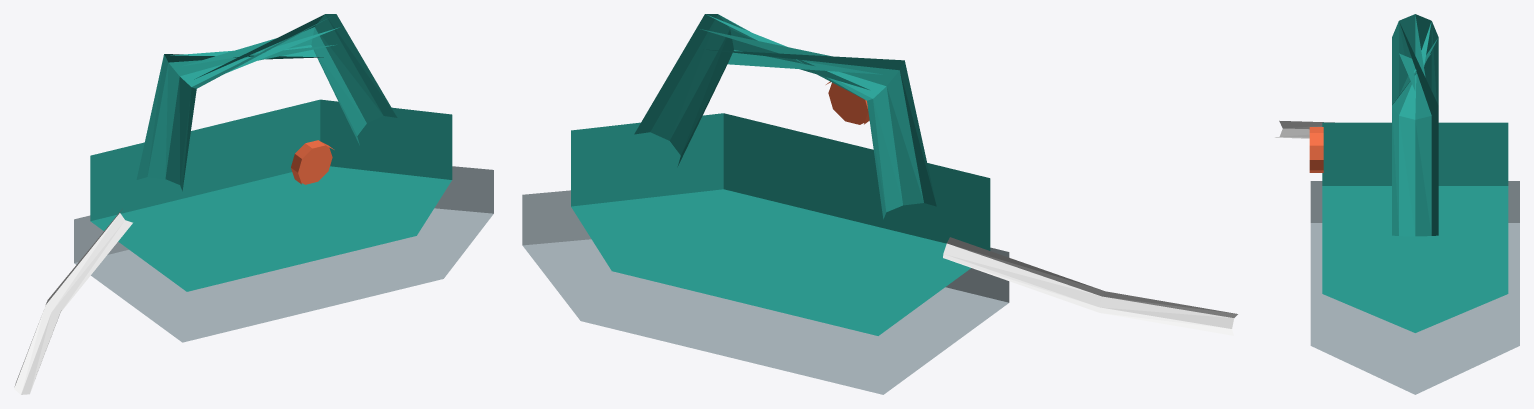
Rendered from strykjarn.glb.
3 renders of one model, left to right at view 1: azimuth 30°, elevation 25°; view 2: azimuth 150°, elevation 25°; view 3: azimuth 270°, elevation 25°, orthographic. The views are drawn at different scales.
Visible parts, largest first — view 1: strykjarn; view 2: strykjarn; view 3: strykjarn.
Boxes of the visible parts, bbox=[...] form: strykjarn: bbox=[14, 14, 493, 394]; strykjarn: bbox=[522, 14, 1237, 394]; strykjarn: bbox=[1275, 14, 1519, 394].
Bounding box in the file's own units: 0.5251 × 0.2177 × 0.2159.
